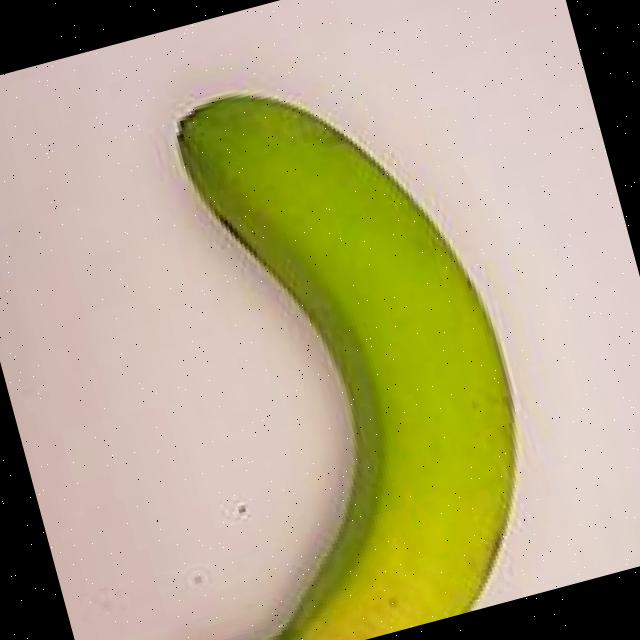Unripe: (0, 8, 617, 640)
